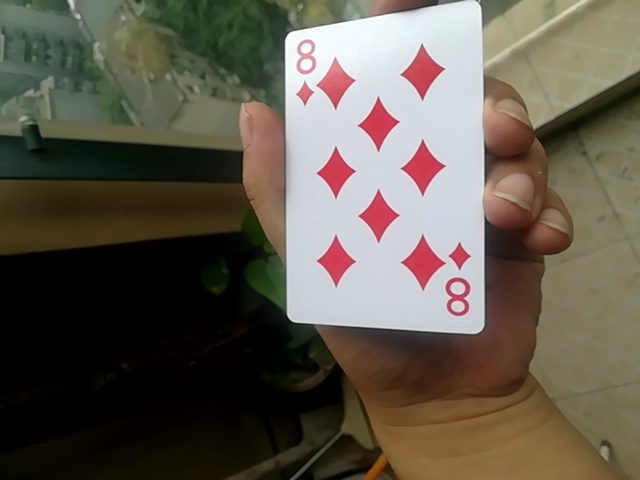fk 8: (281, 0, 492, 340)
